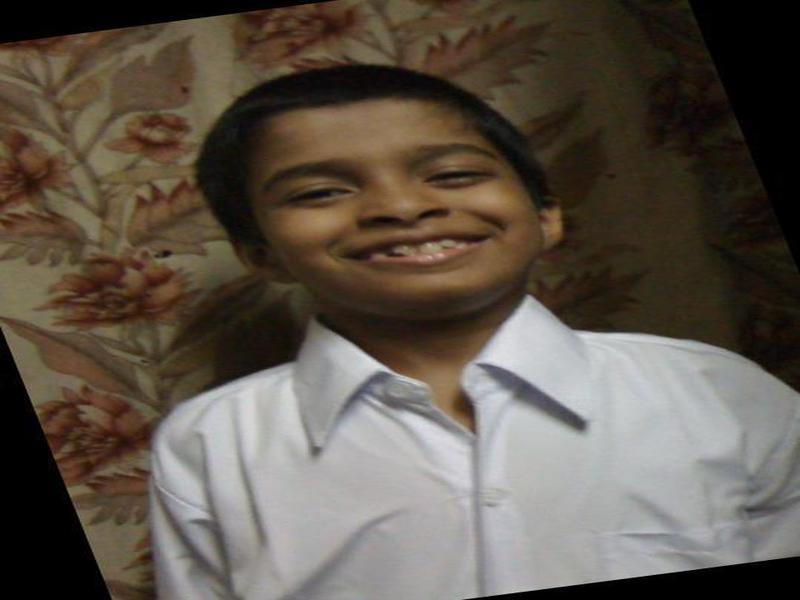without_mask: (242, 97, 534, 308)
